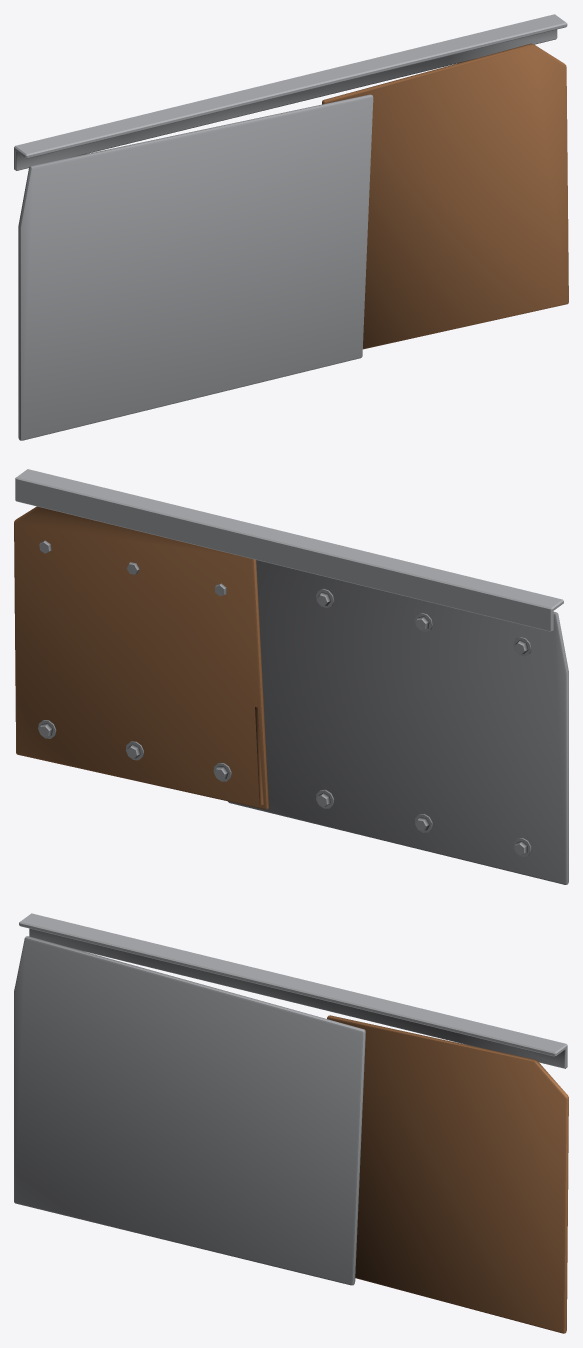
File: door_armor_overlay.glb
The picture shows the model from 3 angles, top to bottom: view 1: azimuth 30°, elevation 25°; view 2: azimuth 150°, elevation 25°; view 3: azimuth 330°, elevation 25°; orthographic projection.
Visible parts, largest first — view 1: PART; view 2: PART; view 3: PART.
Boxes of the visible parts, x1=… form: PART: x1=14, y1=14, x2=568, y2=440; PART: x1=14, y1=469, x2=568, y2=884; PART: x1=14, y1=913, x2=568, y2=1333.
Size of the model in its own units: 1 by 0.494 by 0.04.
